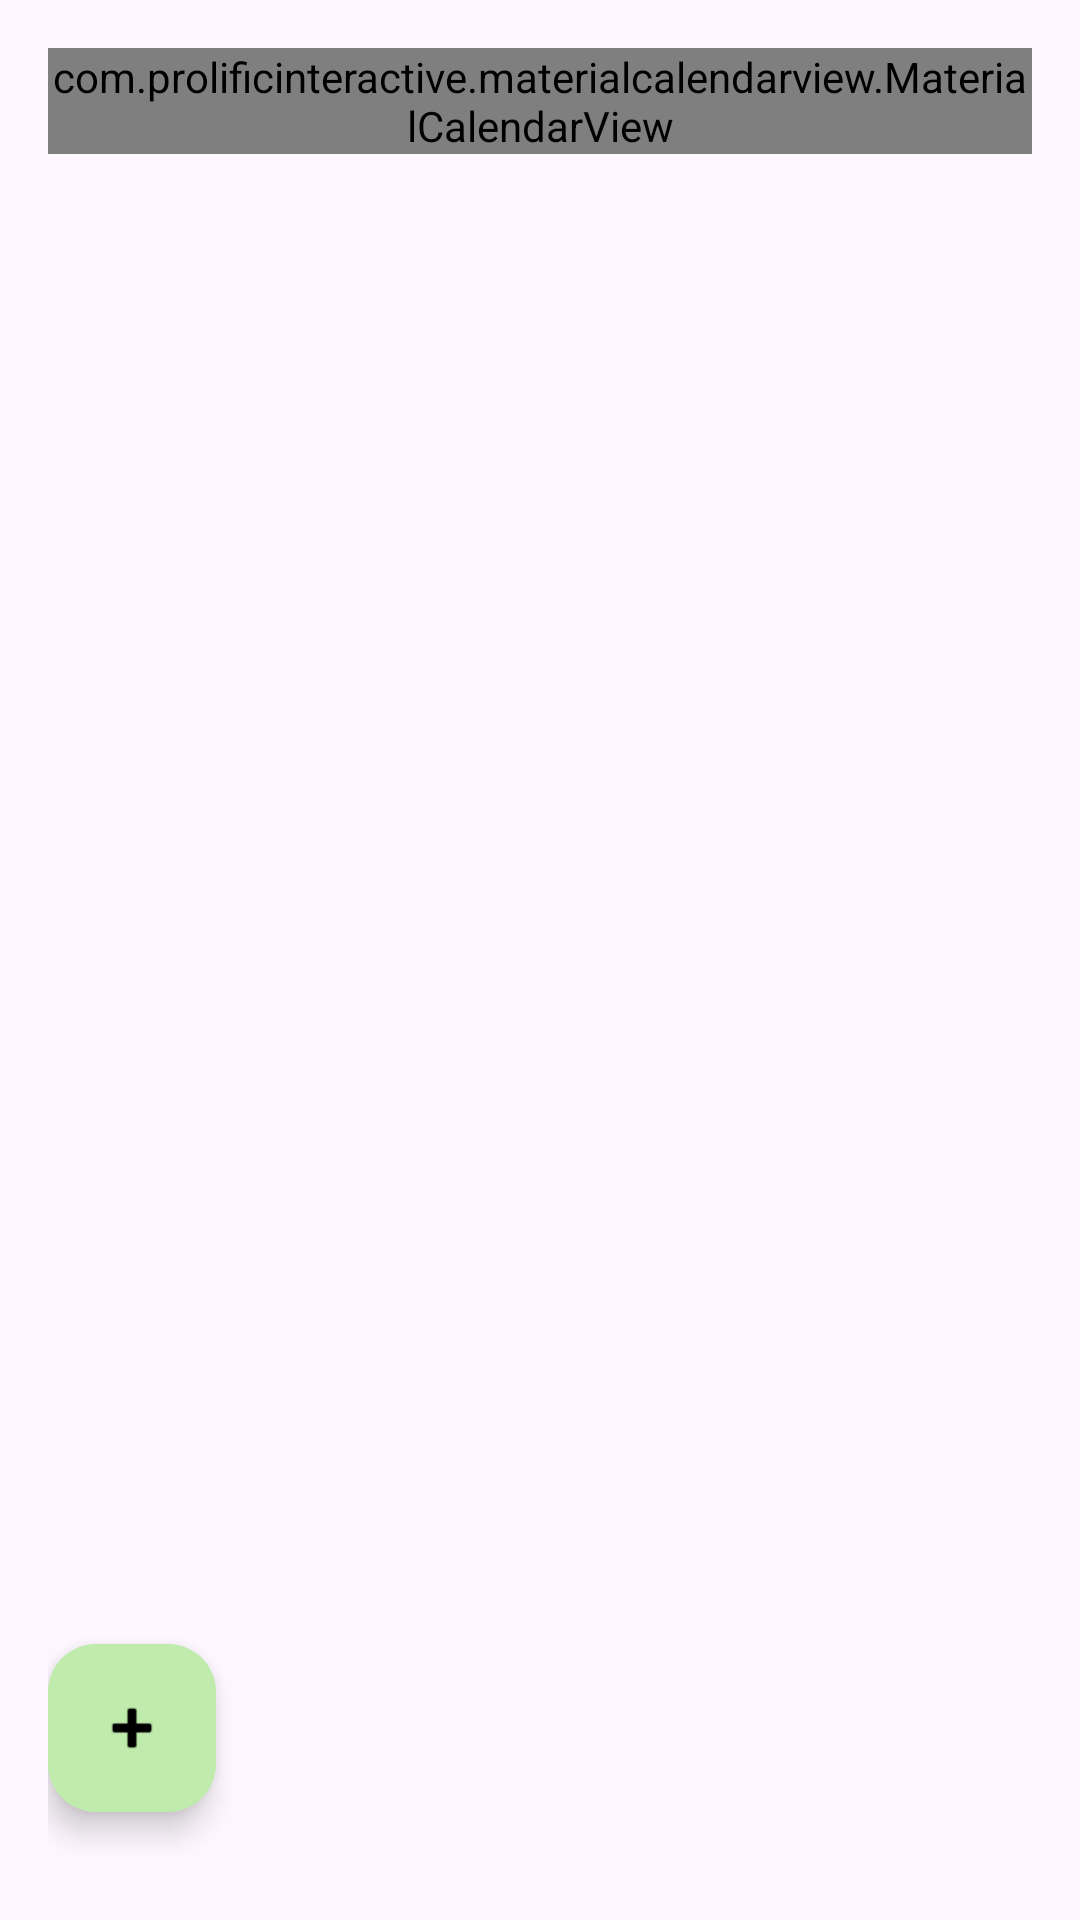

Icon click points for this 1080*1920 phone screenshot, format (x=x, y=y):
add: (x=132, y=1728)
